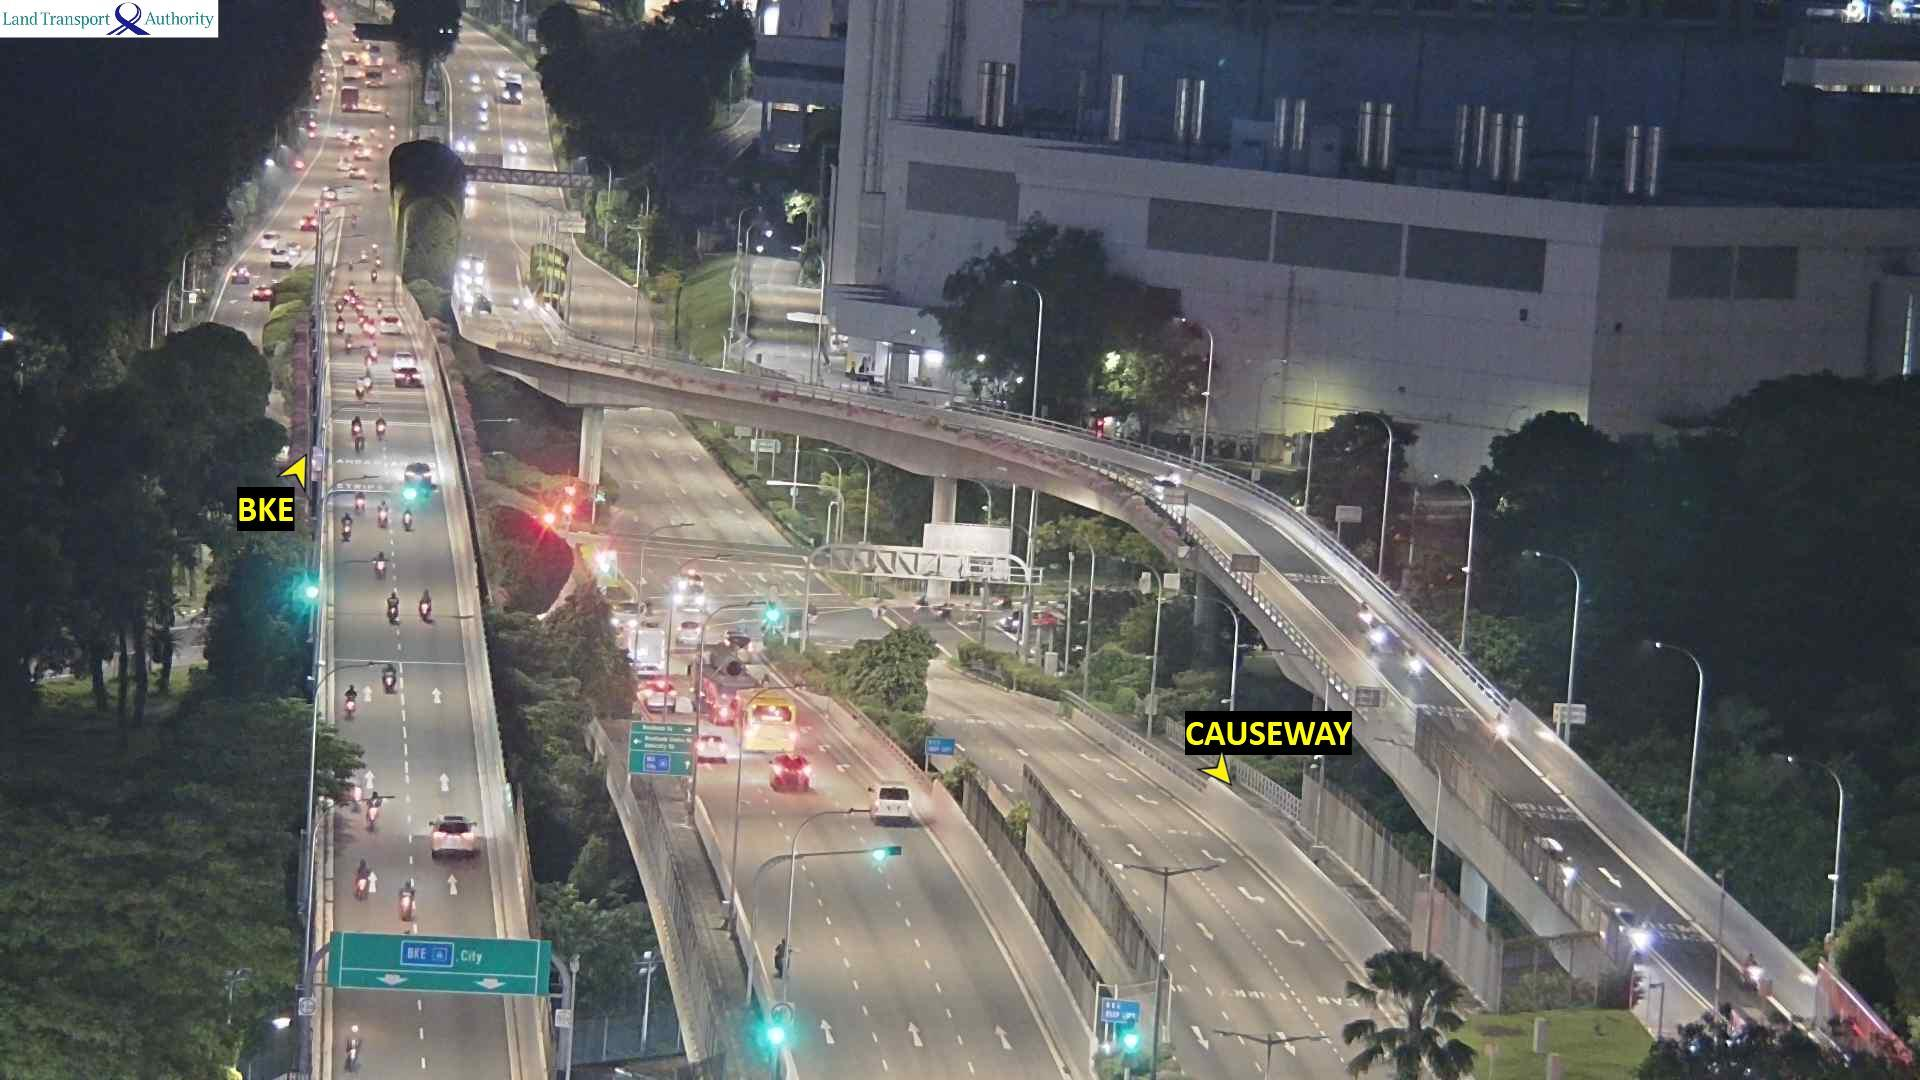vehicle-causeway-johor: (1522, 832, 1575, 889), (1598, 906, 1644, 948), (1739, 952, 1760, 990), (501, 75, 522, 104), (462, 297, 495, 314), (1151, 472, 1178, 493), (1367, 626, 1394, 647), (458, 255, 487, 273), (758, 389, 789, 406), (1404, 647, 1420, 675), (1354, 600, 1367, 624), (459, 276, 488, 286), (514, 290, 529, 310), (459, 135, 473, 150), (513, 141, 527, 156), (469, 74, 483, 88), (479, 96, 489, 111), (481, 113, 489, 127)
vehicle-causeway-singapore: (691, 646, 758, 717), (735, 688, 795, 753), (425, 814, 480, 858), (625, 626, 666, 675), (870, 782, 913, 827), (769, 753, 810, 791), (719, 629, 752, 663), (637, 680, 675, 708), (364, 789, 384, 828), (380, 661, 398, 702), (699, 735, 727, 761), (402, 464, 433, 485), (678, 620, 704, 644), (393, 371, 422, 389), (355, 865, 371, 897), (390, 353, 417, 371), (380, 314, 401, 335), (359, 315, 376, 338), (418, 585, 429, 621), (375, 414, 389, 439), (347, 683, 356, 717), (386, 591, 396, 624), (351, 414, 363, 439), (378, 500, 389, 527), (355, 489, 367, 513), (364, 355, 377, 376), (376, 549, 385, 576), (340, 522, 352, 542), (405, 508, 414, 530), (336, 314, 345, 336), (344, 332, 355, 351), (357, 376, 364, 397), (376, 295, 384, 313), (335, 298, 343, 311), (372, 268, 376, 282)
